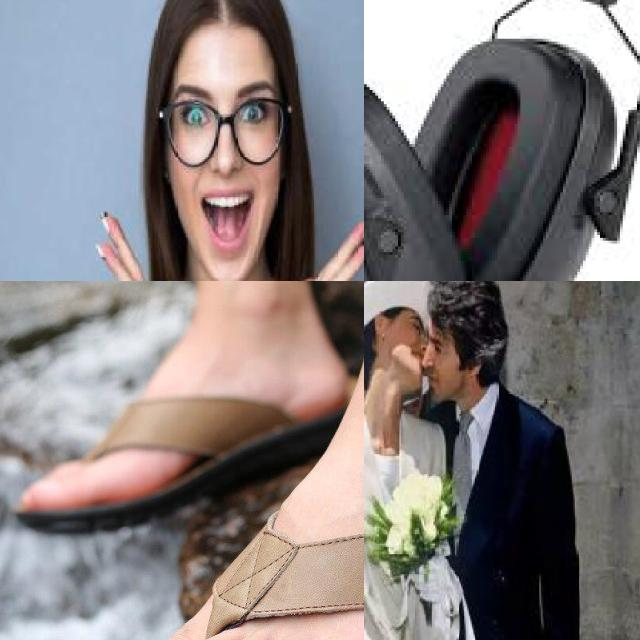Ear-protection: (409, 24, 616, 281), (364, 44, 466, 281)
Sandals: (106, 457, 364, 640)
face_nomask: (156, 36, 292, 281), (368, 313, 433, 405), (424, 327, 461, 404)
glasses: (158, 92, 288, 172)
hand_glove: (412, 553, 450, 607)
hand_noglove: (95, 211, 180, 281), (276, 222, 364, 281)
head_nohelmet: (135, 0, 324, 57), (413, 281, 530, 334)
person: (58, 0, 364, 281), (402, 281, 619, 640), (364, 281, 467, 640)
